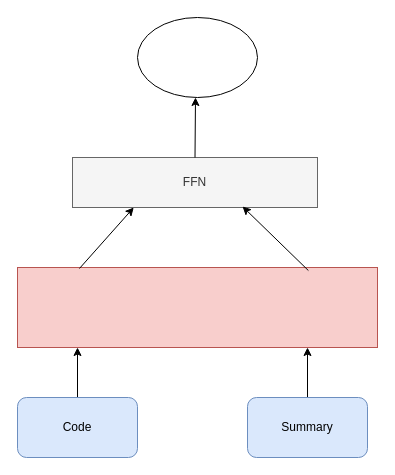
The diagram is 395 pixels wide and 475 high, and some of its shapes have lost their labels. Here are the shapes that lost their labels. From the top down, the box of each, then its label:
(136, 16, 258, 98): 0 to 1
(16, 266, 378, 348): CodeBERT
